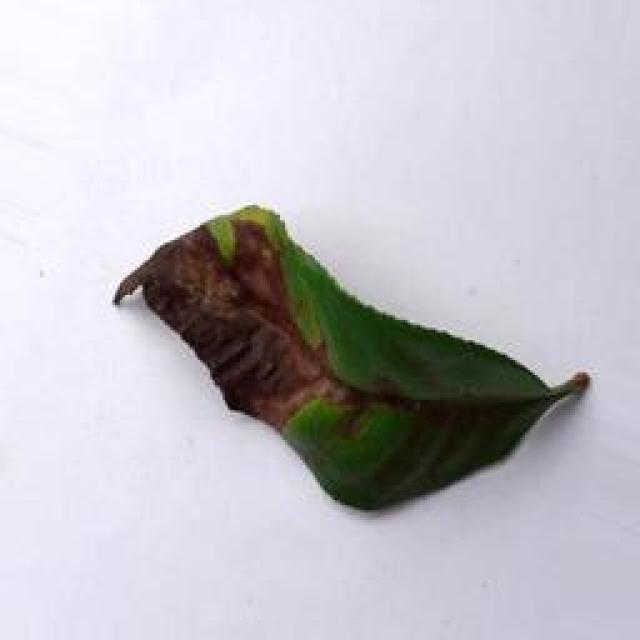Brown Blight: (111, 193, 591, 513)
